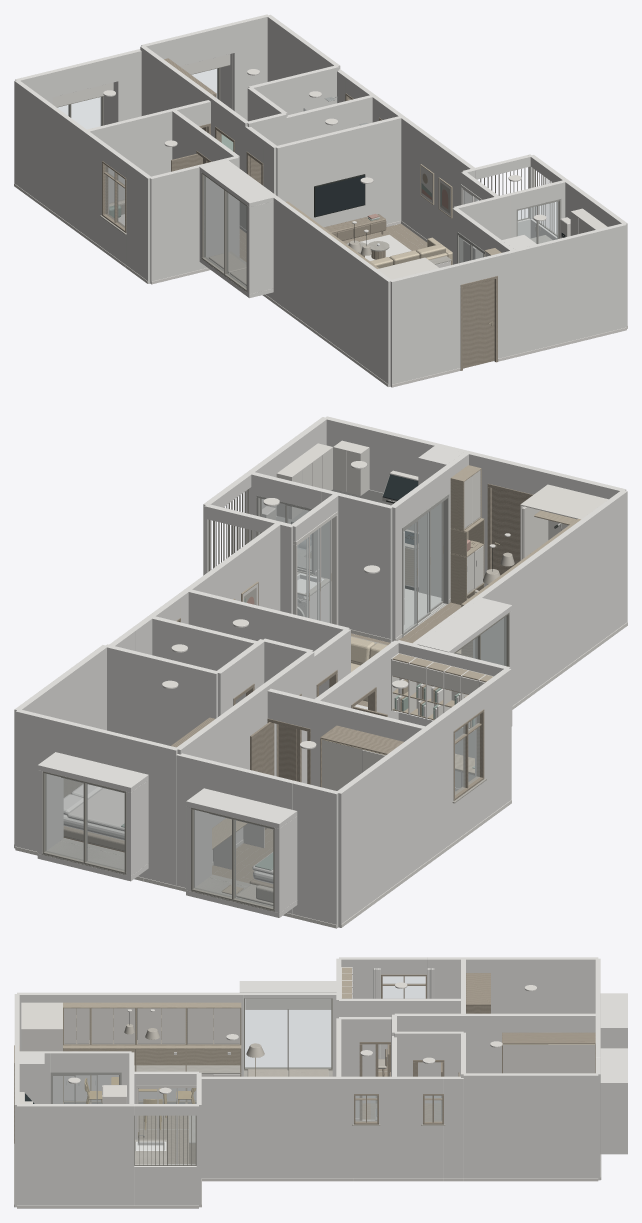
The model's file is huiyayuan-wood.glb.
The picture shows the model from 3 angles, top to bottom: view 1: azimuth 30°, elevation 25°; view 2: azimuth 150°, elevation 25°; view 3: azimuth 270°, elevation 25°; orthographic projection. The views are drawn at different scales.
Visible parts, largest first — view 1: Wall 04 / pier.001, Wall 03 / pier.001, Wall 01 / pier, Wall 20 / pier.002, Wall 04 / pier, Wall 02 / pier, Wall 07 / pier.003, Wall 13 / pier.001, Wall 12 / pier.002, Wall 00 / pier.003, Wall 01 / pier.001, entry_door / oak door leaf (+36 smaller); view 2: Wall 03 / pier.001, Wall 01 / pier, Wall 17 / pier.001, Wall 10 / pier, Wall 00 / pier, Wall 20 / pier.002, Wall 04 / pier.001, Wall 07 / pier.003, Wall 00 / pier.003, Wall 07 / pier, Wall 12 / pier.002, Wall 00 / pier.002 (+63 smaller); view 3: Wall 07 / pier.003, Wall 07 / pier, Balcony boundary 5 / pier.001, Wall 01 / pier, Wall 07 / pier.002, Wall 12 / pier.002, Wall 03 / pier.001, Balcony boundary 5 / sill, window_living_west / bay clear glazing panel, window_living_west / bay clear glazing panel.001, Wall 07 / pier.001, window_a / bay solid return.001 (+62 smaller).
Part boxes in pixels (left/top/right/bottom): Wall 04 / pier.001: left=495, top=223, right=626, bottom=358; Wall 03 / pier.001: left=271, top=195, right=392, bottom=386; Wall 01 / pier: left=14, top=80, right=106, bottom=247; Wall 20 / pier.002: left=275, top=115, right=401, bottom=227; Wall 04 / pier: left=390, top=263, right=460, bottom=387; Wall 02 / pier: left=150, top=159, right=225, bottom=284; Wall 07 / pier.003: left=392, top=110, right=474, bottom=251; Wall 13 / pier.001: left=85, top=108, right=176, bottom=202; Wall 12 / pier.002: left=140, top=46, right=219, bottom=137; Wall 00 / pier.003: left=232, top=14, right=268, bottom=120; Wall 01 / pier.001: left=126, top=161, right=151, bottom=283; entry_door / oak door leaf: left=463, top=279, right=494, bottom=368; Wall 03 / pier.001: left=473, top=490, right=627, bottom=705; Wall 01 / pier: left=336, top=710, right=453, bottom=927; Wall 17 / pier.001: left=104, top=644, right=217, bottom=745; Wall 10 / pier: left=322, top=489, right=393, bottom=642; Wall 00 / pier: left=292, top=781, right=338, bottom=928; Wall 20 / pier.002: left=186, top=589, right=349, bottom=695; Wall 04 / pier.001: left=324, top=416, right=490, bottom=586; Wall 07 / pier.003: left=175, top=522, right=281, bottom=624; Wall 00 / pier.003: left=15, top=709, right=63, bottom=851; Wall 07 / pier: left=14, top=645, right=106, bottom=848; Wall 12 / pier.002: left=177, top=678, right=276, bottom=861; Wall 00 / pier.002: left=144, top=740, right=178, bottom=885; Wall 07 / pier.003: left=199, top=1076, right=353, bottom=1178; Wall 07 / pier: left=463, top=1073, right=598, bottom=1178; Balcony boundary 5 / pier.001: left=17, top=1104, right=131, bottom=1205; Wall 01 / pier: left=427, top=957, right=598, bottom=1013; Wall 07 / pier.002: left=379, top=1076, right=422, bottom=1178; Wall 12 / pier.002: left=452, top=1013, right=598, bottom=1073; Wall 03 / pier.001: left=17, top=992, right=243, bottom=1076; Balcony boundary 5 / sill: left=134, top=1164, right=196, bottom=1205; window_living_west / bay clear glazing panel: left=289, top=1010, right=330, bottom=1067; window_living_west / bay clear glazing panel.001: left=245, top=1009, right=287, bottom=1067; Wall 07 / pier.001: left=444, top=1076, right=463, bottom=1178; window_a / bay solid return.001: left=600, top=1087, right=627, bottom=1150.
Bounding box in the file's own units: 8.46 × 2.8 × 14.67.
25 materials, 6 textured.
